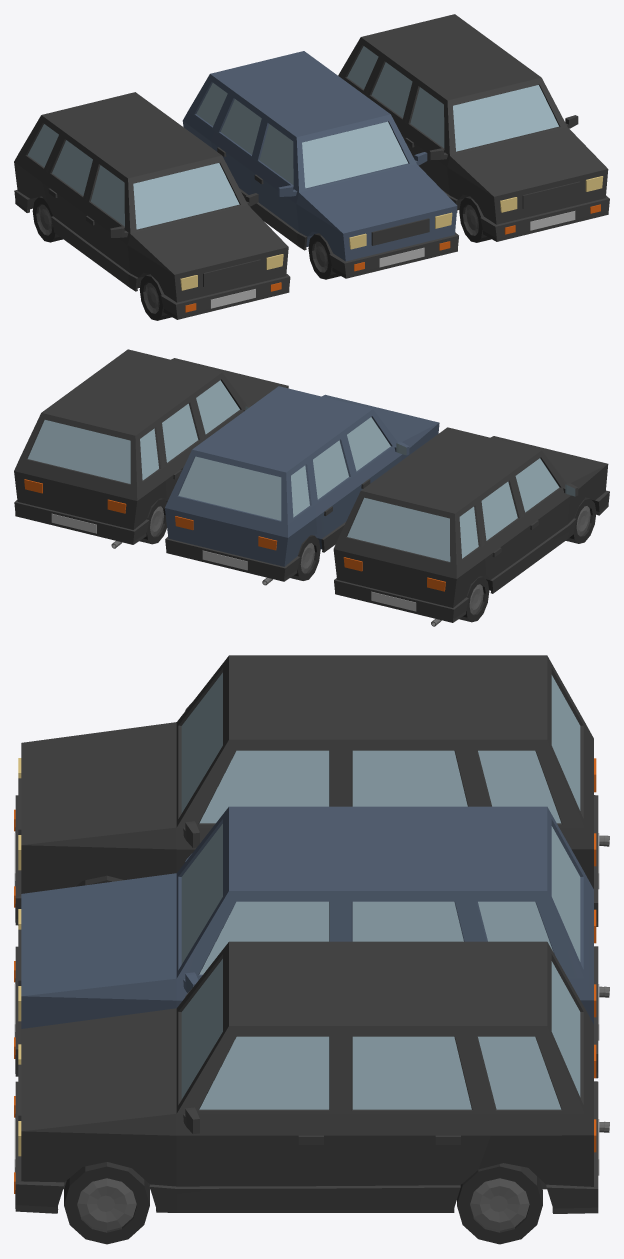
Rendered from car_3.fbx.
3 renders of one model, top to bottom at view 1: azimuth 30°, elevation 25°; view 2: azimuth 150°, elevation 25°; view 3: azimuth 270°, elevation 25°, orthographic. The views are drawn at different scales.
Visible parts, largest first — view 1: 3.0, 3.1, 3.2; view 2: 3.0, 3.1, 3.2; view 3: 3.2, 3.0, 3.1.
Boxes of the visible parts, x1,y1,x2,y2 form: 3.0: [14, 92, 290, 320]; 3.1: [182, 51, 458, 279]; 3.2: [338, 14, 609, 242]; 3.0: [333, 427, 609, 626]; 3.1: [165, 386, 439, 585]; 3.2: [14, 349, 288, 548]; 3.2: [14, 941, 609, 1244]; 3.0: [14, 655, 609, 926]; 3.1: [14, 806, 609, 1078].
Size of the model in its own units: 639 by 149 by 385.
1 material, 1 textured.
